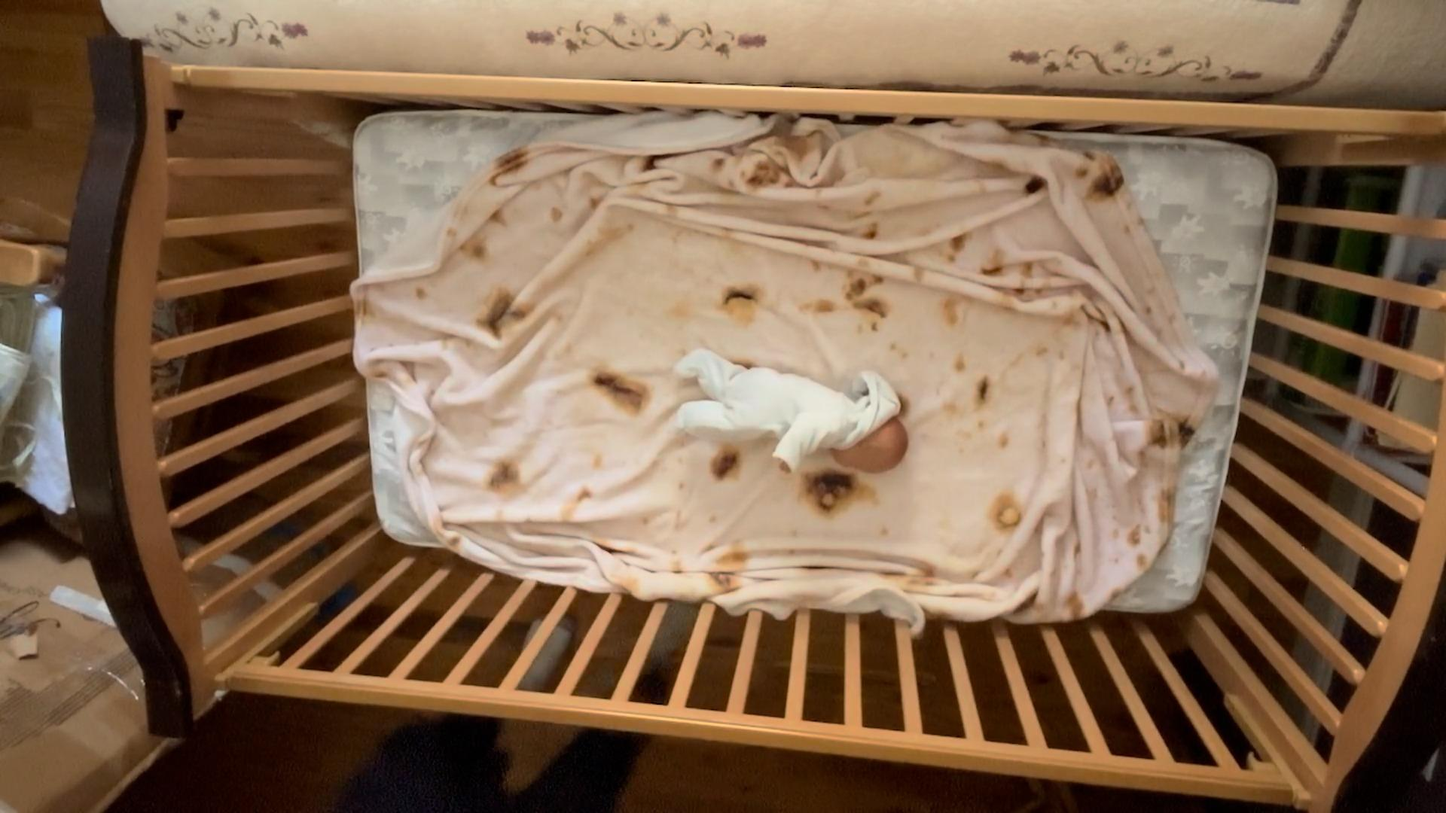baby: (669, 343, 914, 475)
